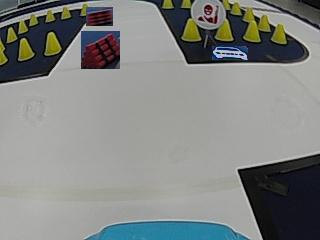evil: (190, 0, 225, 29)
